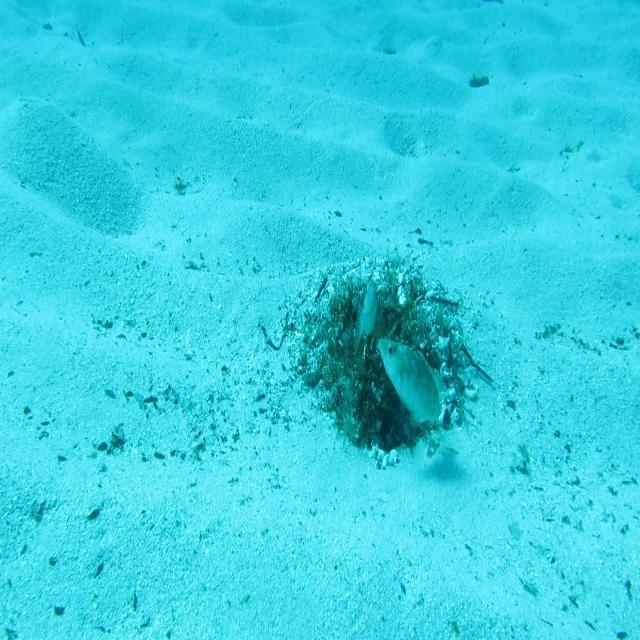BEND: (378, 335, 449, 431)
core_nest: (355, 302, 395, 347)
female: (353, 283, 378, 354)
nest: (279, 240, 486, 483)
vegetation: (468, 72, 491, 90)
